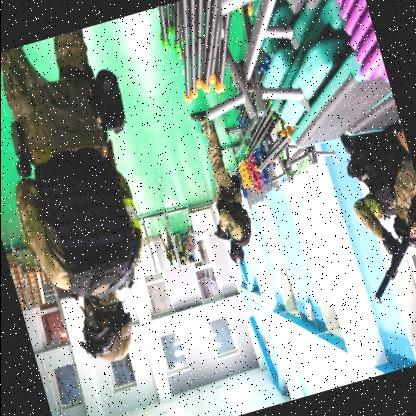rifle: (348, 194, 416, 304), (210, 224, 231, 248)
